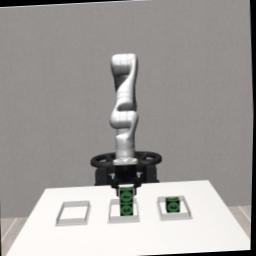cube1: (118, 186, 134, 203)
cube2: (119, 200, 134, 216)
cube3: (166, 196, 181, 212)
